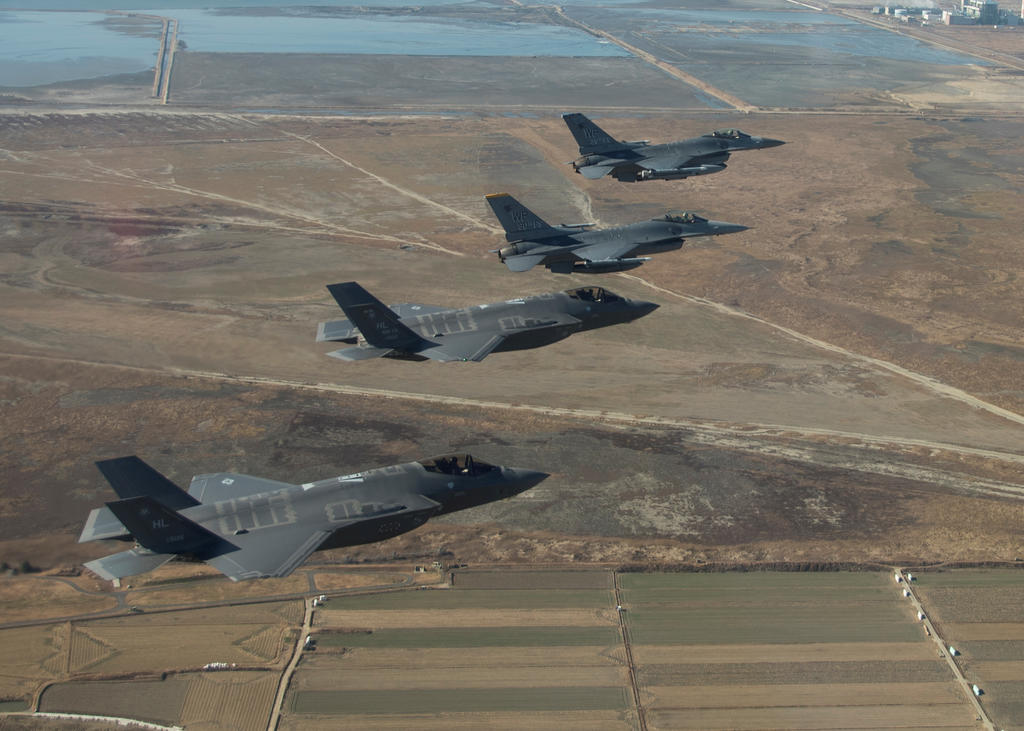F-16: (455, 187, 759, 273), (545, 105, 802, 185)
F-35 Lightning: (70, 417, 549, 605), (281, 268, 676, 378)
